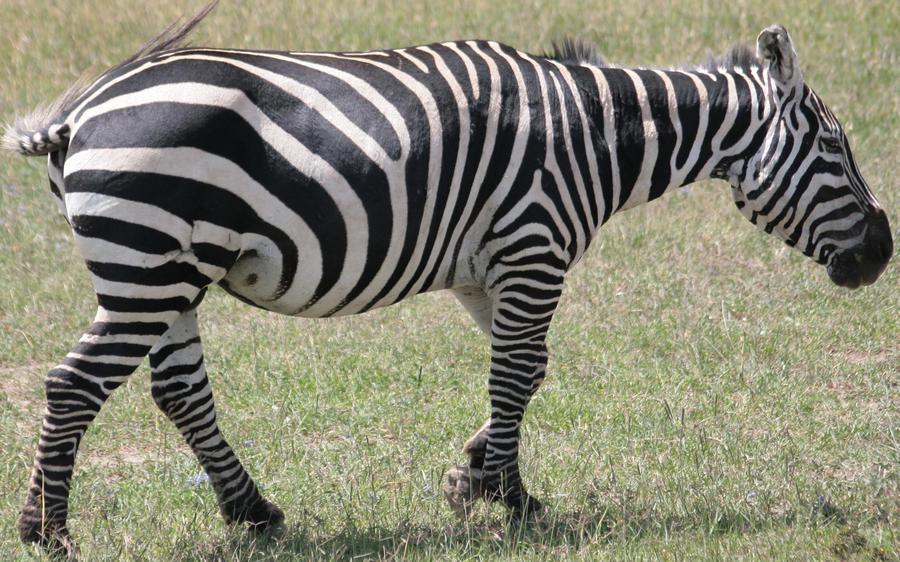zebra_plains: (78, 28, 581, 331)
